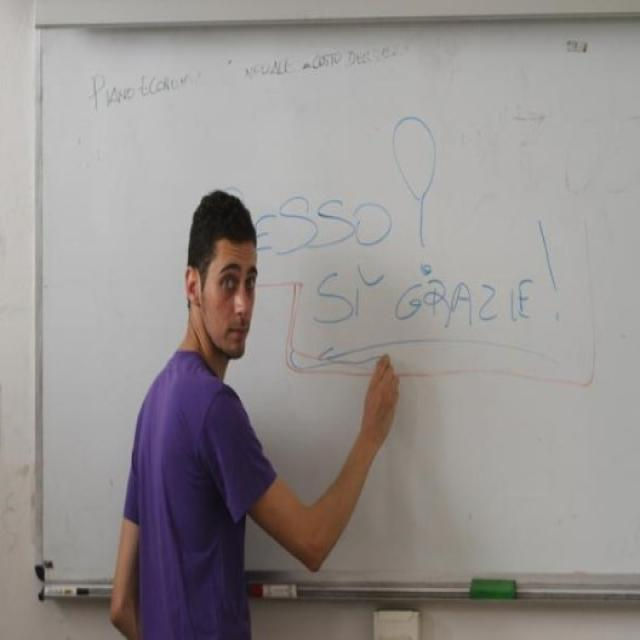Instructor: (116, 183, 314, 619)
White-board: (38, 15, 640, 583)
